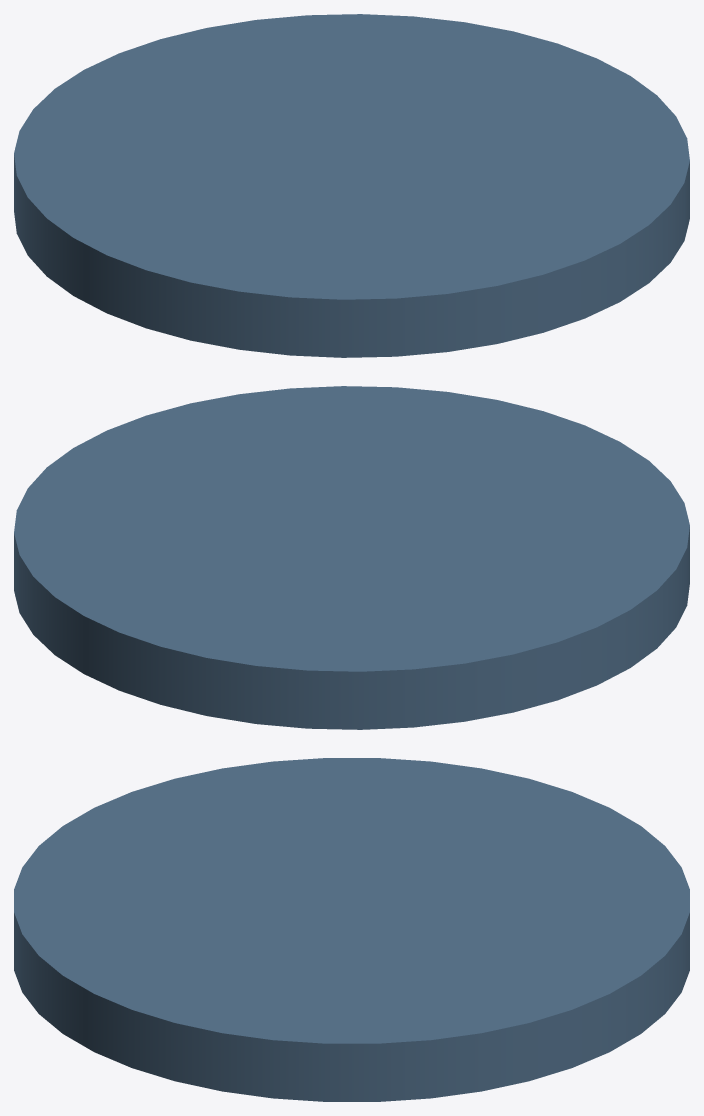
File: F_Floor_01.fbx
3 renders of one model, top to bottom at view 1: azimuth 30°, elevation 25°; view 2: azimuth 150°, elevation 25°; view 3: azimuth 270°, elevation 25°, orthographic.
Visible parts, largest first — view 1: F_Floor_01; view 2: F_Floor_01; view 3: F_Floor_01.
Boxes of the visible parts, <box> form: F_Floor_01: <box>14,14,689,357</box>; F_Floor_01: <box>14,386,689,729</box>; F_Floor_01: <box>14,758,689,1101</box>.
Bounding box in the file's own units: 997 × 94.86 × 997.
